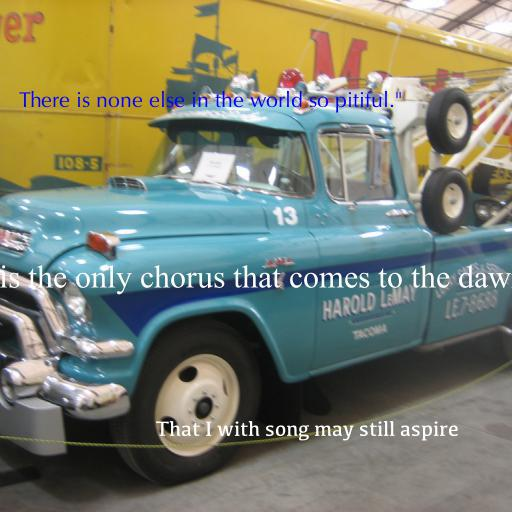Kefa: (155, 421, 459, 441)
Optima: (18, 90, 402, 113)
Times New Roman: (0, 265, 512, 295)
